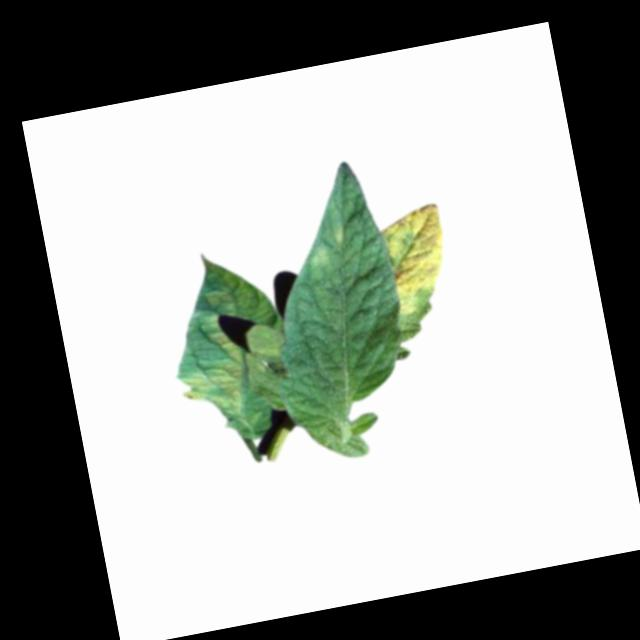Leaf_Mold: (156, 257, 296, 429), (375, 201, 460, 320), (300, 223, 351, 270)
